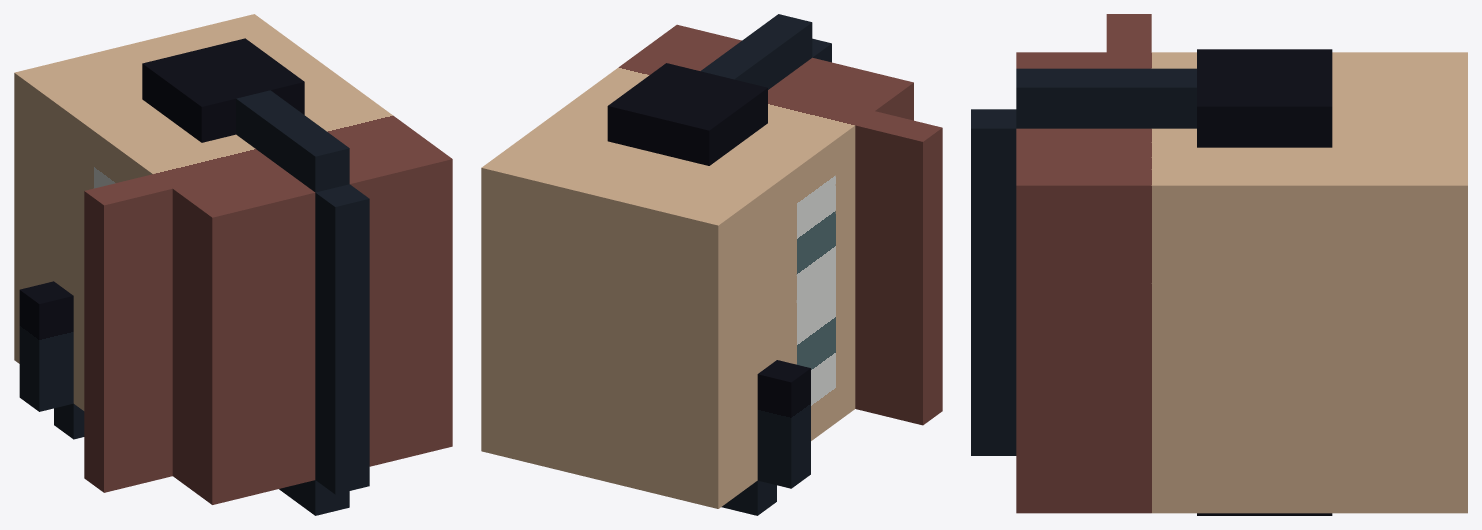
The model's file is Head4.fbx.
The picture shows the model from 3 angles, left to right: view 1: azimuth 30°, elevation 25°; view 2: azimuth 150°, elevation 25°; view 3: azimuth 270°, elevation 25°; orthographic projection. The views are drawn at different scales.
Parts seen in each view (by area): view 1: Untitled.013; view 2: Untitled.013; view 3: Untitled.013.
Boxes of the visible parts, x1,y1,x2,y2 form: Untitled.013: (14,14,452,515); Untitled.013: (481,14,942,515); Untitled.013: (971,14,1467,515).
Size of the model in its own units: 90 by 100 by 110.
